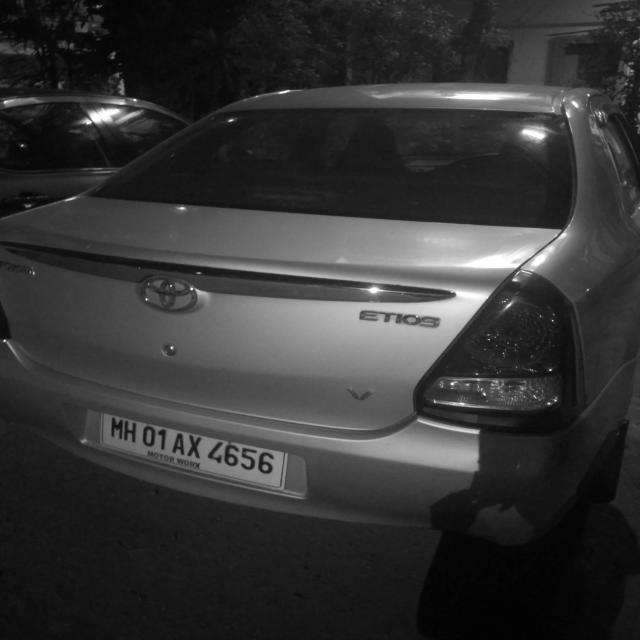car: (0, 74, 640, 550)
license-plate: (98, 411, 287, 490)
